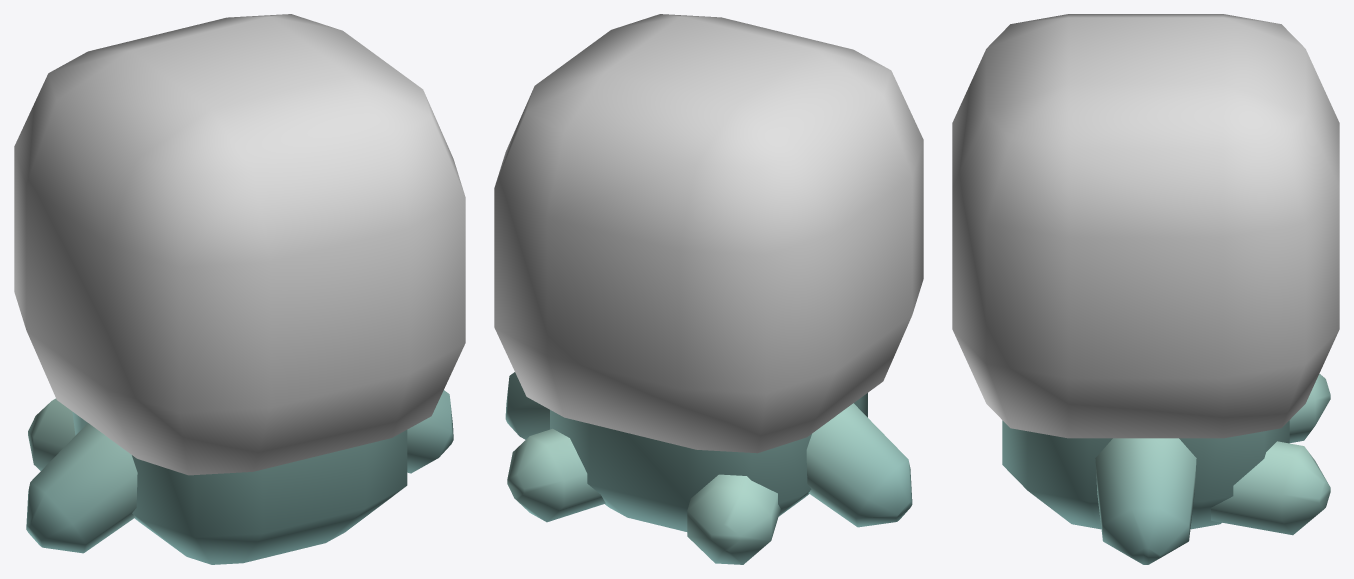
The model's file is oldie (%secret).glb.
3 views of the same model, side by side, from view 1: azimuth 30°, elevation 25°; view 2: azimuth 150°, elevation 25°; view 3: azimuth 270°, elevation 25° (orthographic). The views are drawn at different scales.
Parts seen in each view (by area): view 1: oldie (%secret); view 2: oldie (%secret); view 3: oldie (%secret).
Boxes of the visible parts, <box> form: oldie (%secret): <box>14,14,465,564</box>; oldie (%secret): <box>494,14,923,564</box>; oldie (%secret): <box>952,14,1339,564</box>.
Bounding box in the file's own units: 0.4116 × 0.425 × 0.3375.
